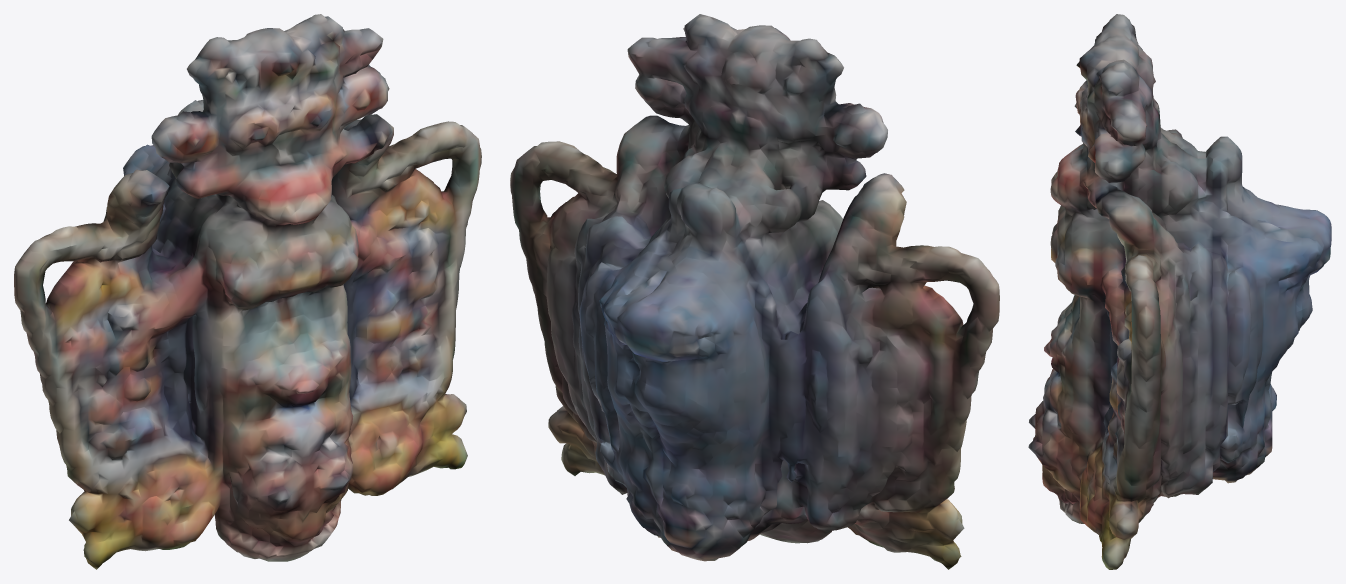
File: bhuta-sanniya.glb
3 renders of one model, left to right at view 1: azimuth 30°, elevation 25°; view 2: azimuth 150°, elevation 25°; view 3: azimuth 270°, elevation 25°, orthographic. The views are drawn at different scales.
Parts seen in each view (by area): view 1: geometry_0; view 2: geometry_0; view 3: geometry_0.
Boxes of the visible parts, x1,y1,x2,y2 form: geometry_0: (14, 14, 481, 569); geometry_0: (510, 14, 999, 569); geometry_0: (1028, 14, 1331, 569).
Size of the model in its own units: 0.929 by 0.9702 by 0.5596.
